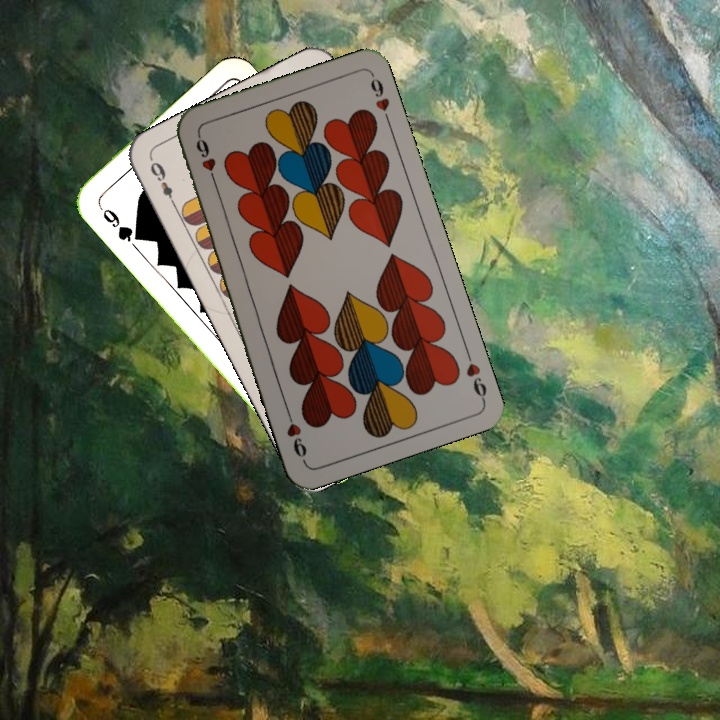E9: (146, 157, 179, 210)
G9: (94, 200, 144, 245)
H9: (461, 346, 489, 404), (192, 131, 220, 188)
